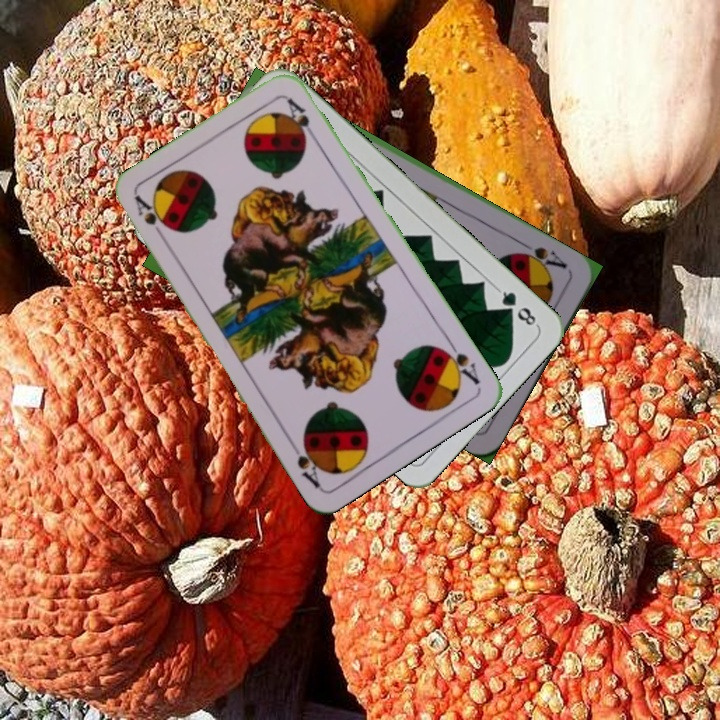G8: (493, 284, 541, 329)
SA: (435, 335, 483, 388), (513, 238, 570, 275), (131, 192, 170, 245)
